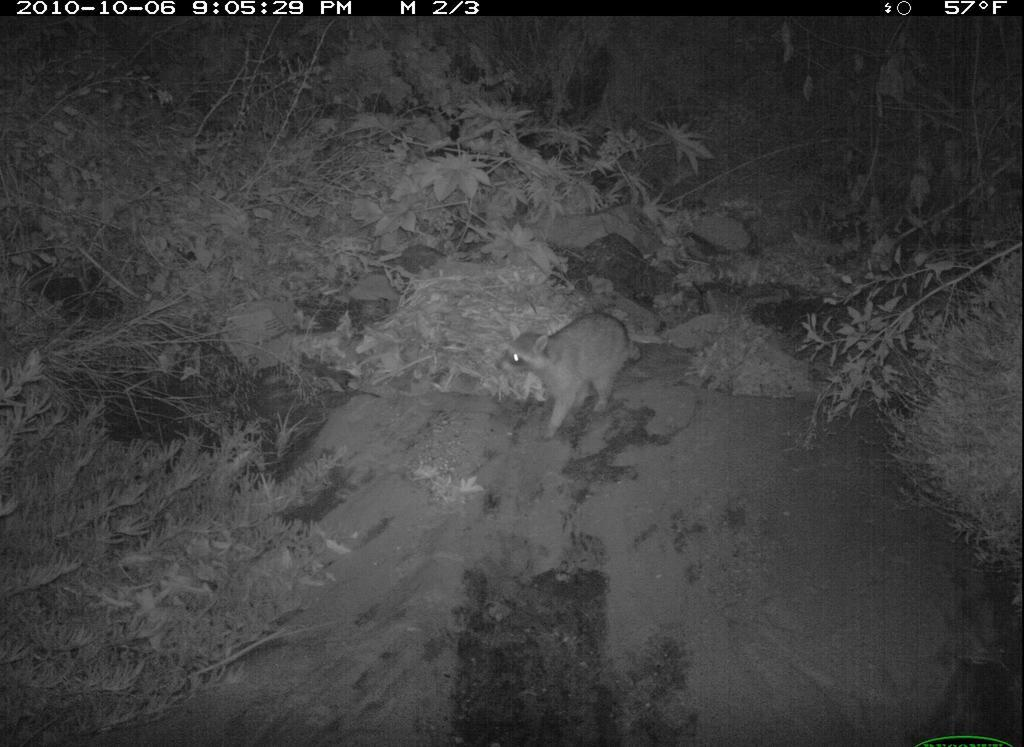raccoon: (496, 308, 651, 442)
